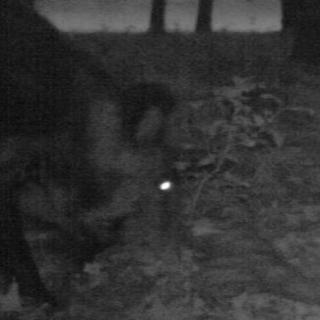Pig: (0, 0, 205, 319)
